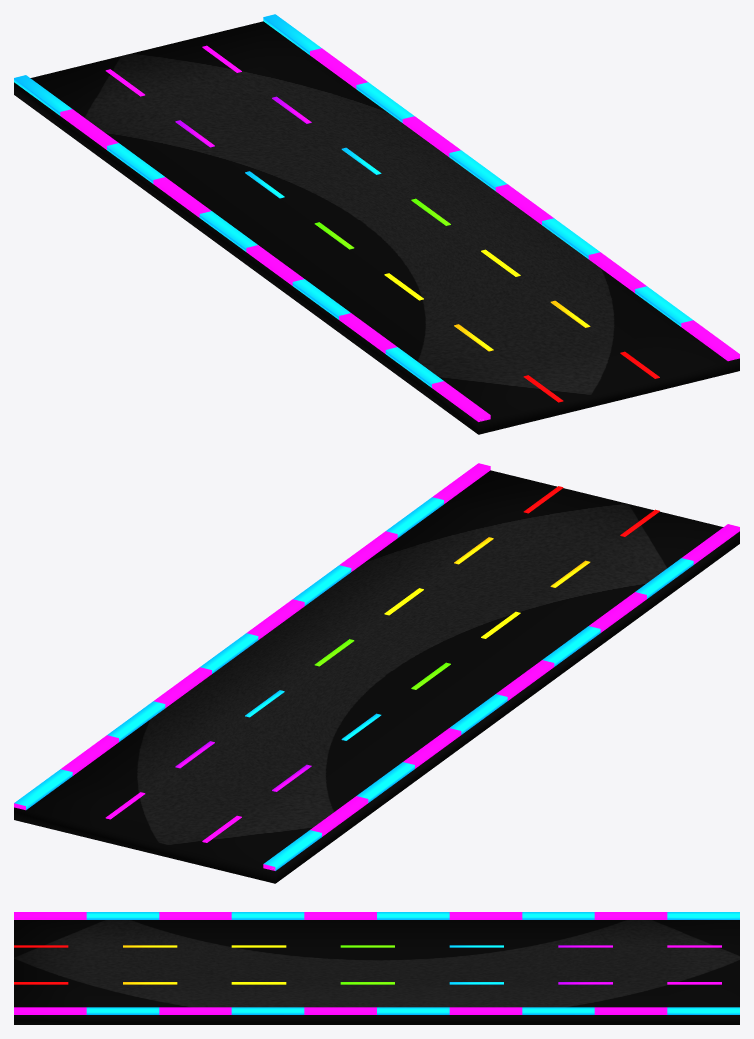
Rendered from TrackStraight_20m.glb.
The picture shows the model from 3 angles, top to bottom: view 1: azimuth 30°, elevation 25°; view 2: azimuth 150°, elevation 25°; view 3: azimuth 270°, elevation 25°; orthographic projection. The views are drawn at different scales.
Visible parts, largest first — view 1: Floor, Curb.L, Curb.R, LaneLines; view 2: Floor, Curb.L, Curb.R, LaneLines; view 3: Floor, Curb.L, Curb.R, LaneLines.
Part boxes in pixels (x1,y1,x2,y2): Floor: (14, 21, 739, 434); Curb.L: (14, 75, 490, 421); Curb.R: (263, 14, 739, 361); LaneLines: (105, 45, 659, 402); Floor: (14, 470, 739, 883); Curb.L: (263, 524, 739, 870); Curb.R: (14, 463, 490, 810); LaneLines: (105, 486, 659, 842); Floor: (14, 920, 739, 1024); Curb.L: (14, 912, 739, 919); Curb.R: (14, 1007, 739, 1014); LaneLines: (14, 945, 721, 984).
Size of the model in its own units: 6.5 by 0.4 by 20.
8 materials, 1 textured.
